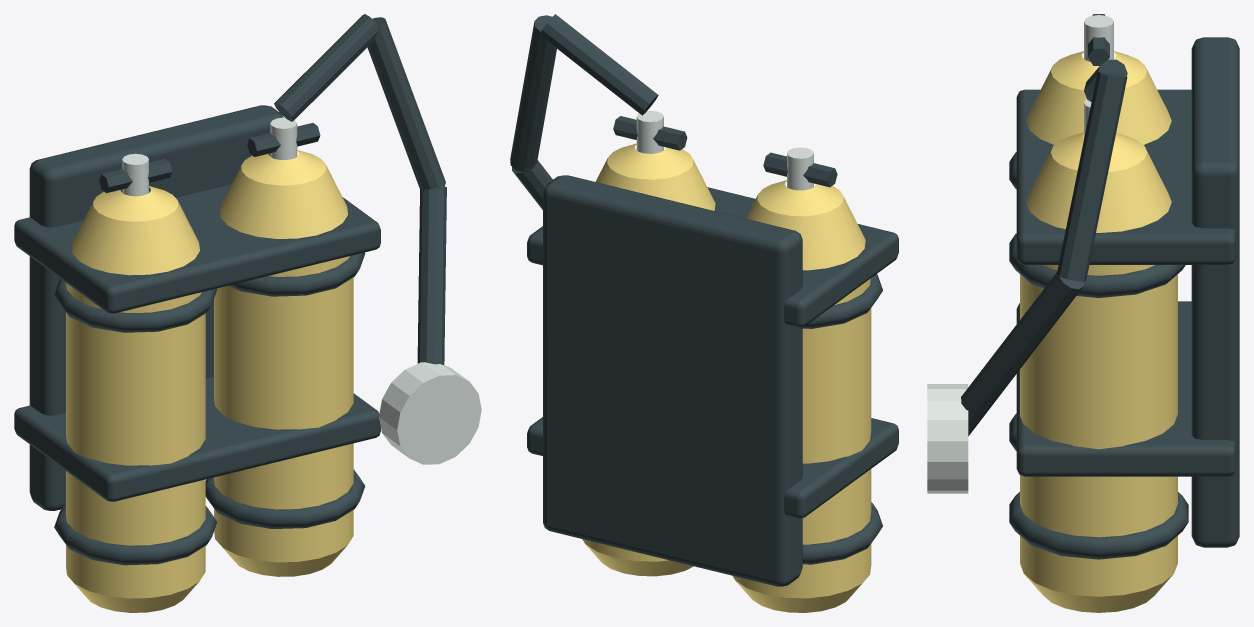
File: twin-scuba-tank-rig.glb
3 renders of one model, left to right at view 1: azimuth 30°, elevation 25°; view 2: azimuth 150°, elevation 25°; view 3: azimuth 270°, elevation 25°, orthographic. The views are drawn at different scales.
Visible parts, largest first — view 1: twin-scuba-tank-rig; view 2: twin-scuba-tank-rig; view 3: twin-scuba-tank-rig.
Part boxes in pixels (x1,y1,x2,y2): twin-scuba-tank-rig: (14, 14, 481, 612); twin-scuba-tank-rig: (510, 14, 898, 612); twin-scuba-tank-rig: (927, 14, 1239, 612).
Size of the model in its own units: 0.6948 by 0.9279 by 0.455.
